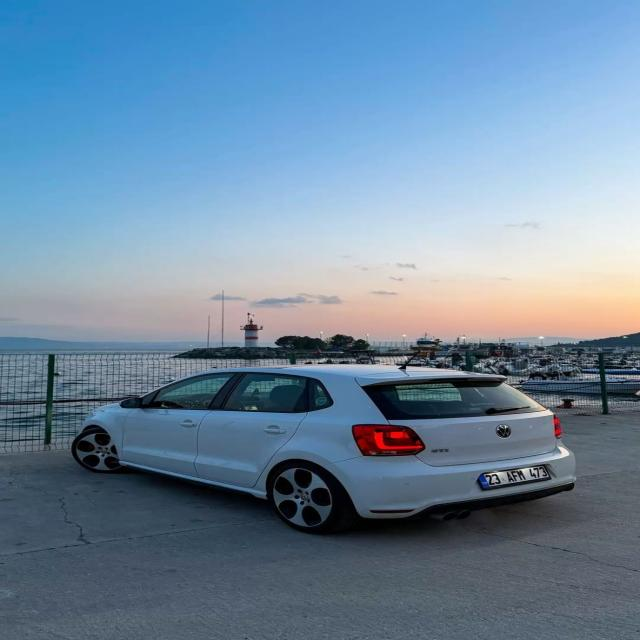Placas: (480, 464, 555, 490)
